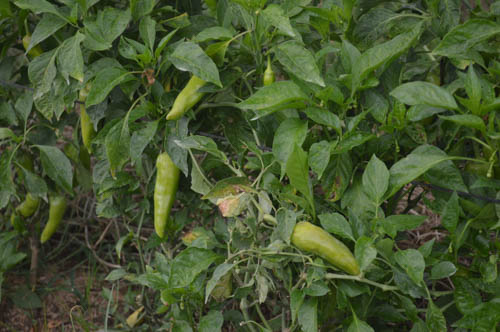ChiliPepper: (283, 217, 363, 283), (145, 142, 185, 242), (156, 71, 215, 123), (75, 80, 104, 157), (38, 190, 70, 250), (10, 191, 41, 233), (20, 31, 45, 67), (253, 65, 278, 89)
